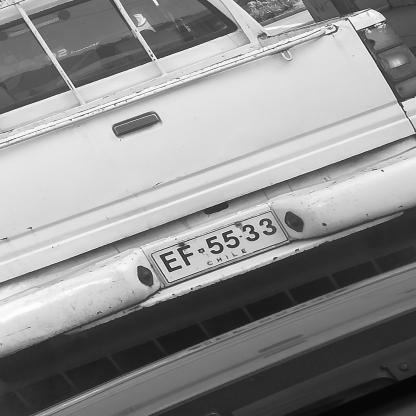Patente: (145, 205, 296, 292)
